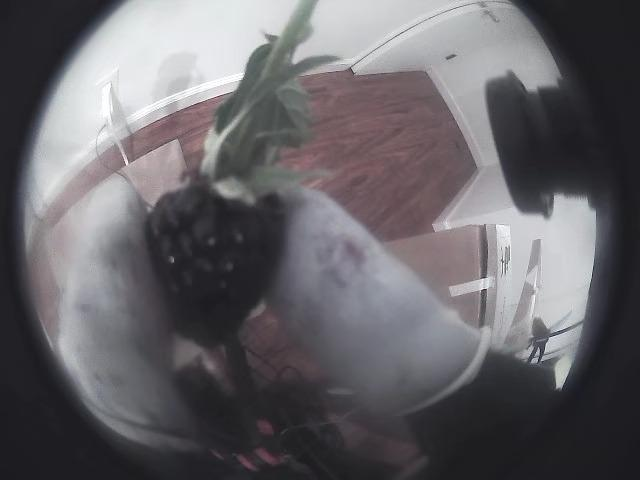berry: (145, 106, 291, 344), (261, 0, 317, 79)
gripper: (266, 189, 490, 415), (58, 177, 201, 449)
lense: (0, 0, 145, 479), (504, 1, 639, 479)
